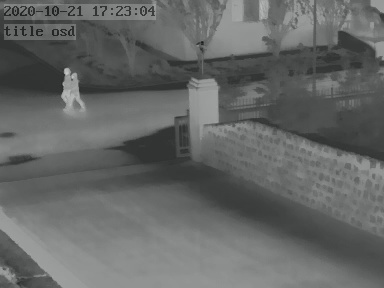person: (70, 71, 85, 112), (60, 66, 73, 109)
